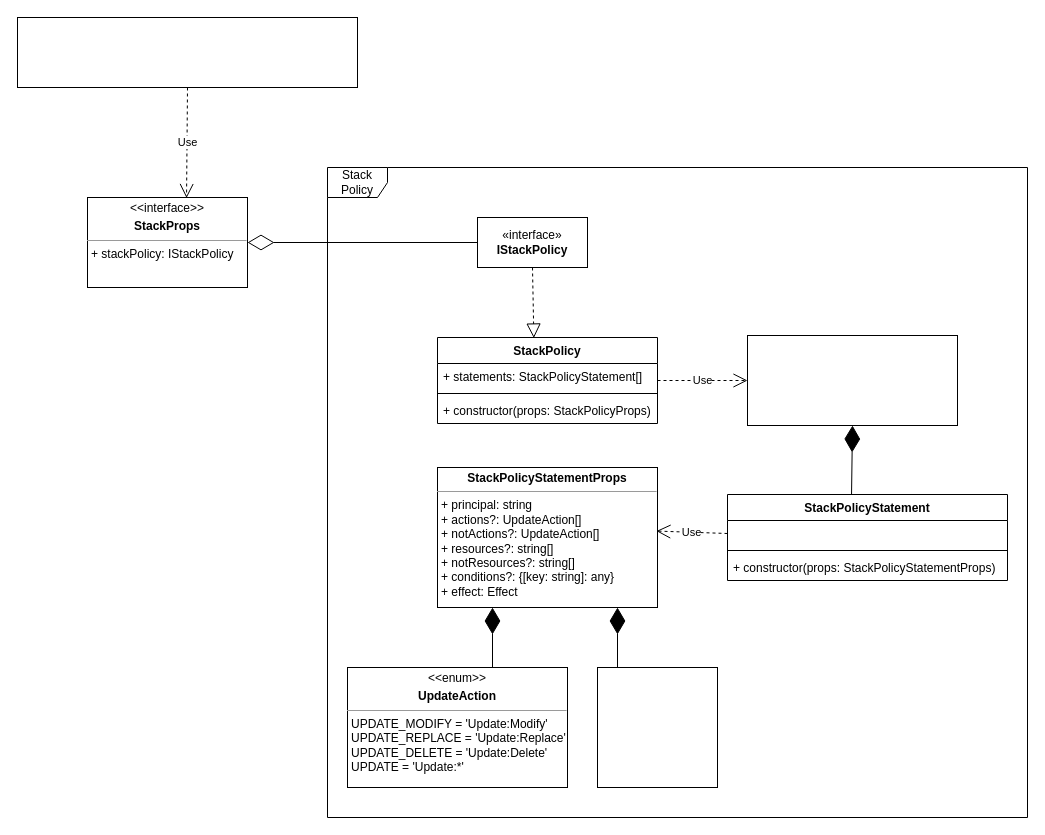
The diagram is 1045 pixels wide and 835 high, and some of its shapes have lost their labels. Each missing label, with the centre of its shape:
"<<enum>> Effect ALLOW = 'Allow' DENY = 'Deny'" belongs at (657,727).
"<<inteface>> StackPolicyProps + statements: StackPolicyStatement[]" belongs at (852,380).
"Stack + constructor(scope: Construct, id?: string, props: StackProps)" belongs at (187,52).
